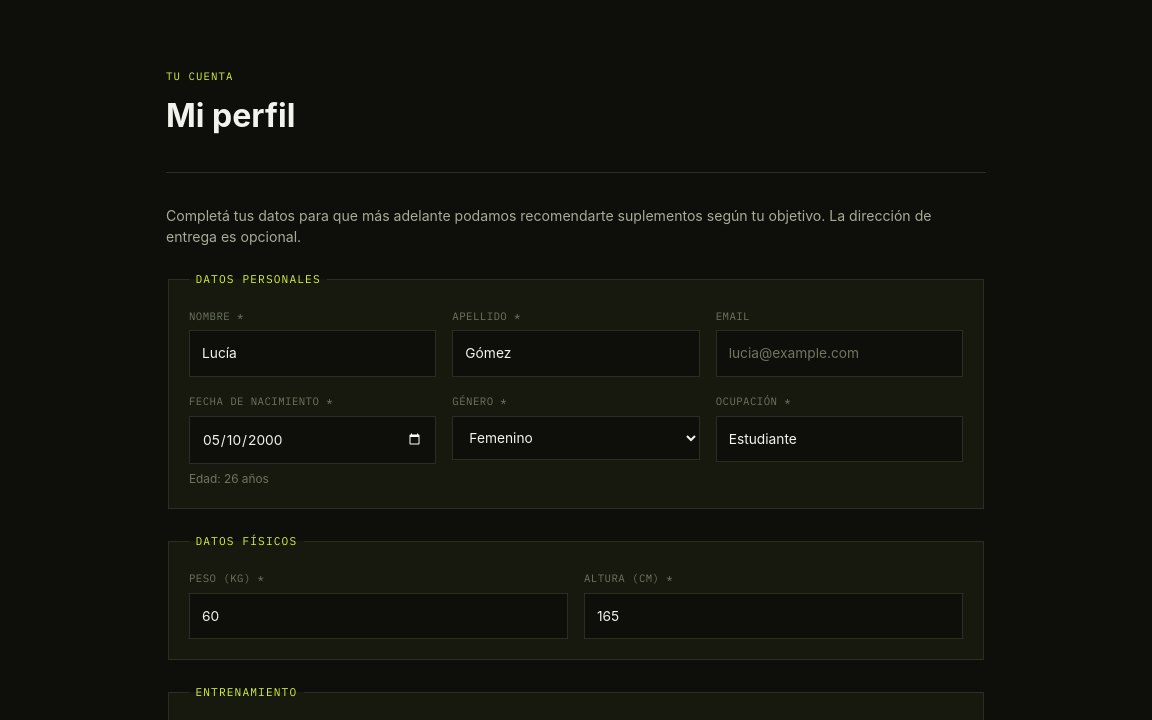
Test: ClientProfile › shows "El peso es obligatorio." and does not save when the weight is empty
This screenshot has width=1152, height=720.
Clear the number field labelled "Peso (kg) *": (378, 616) [189,593,568,639]
(page scrolled)
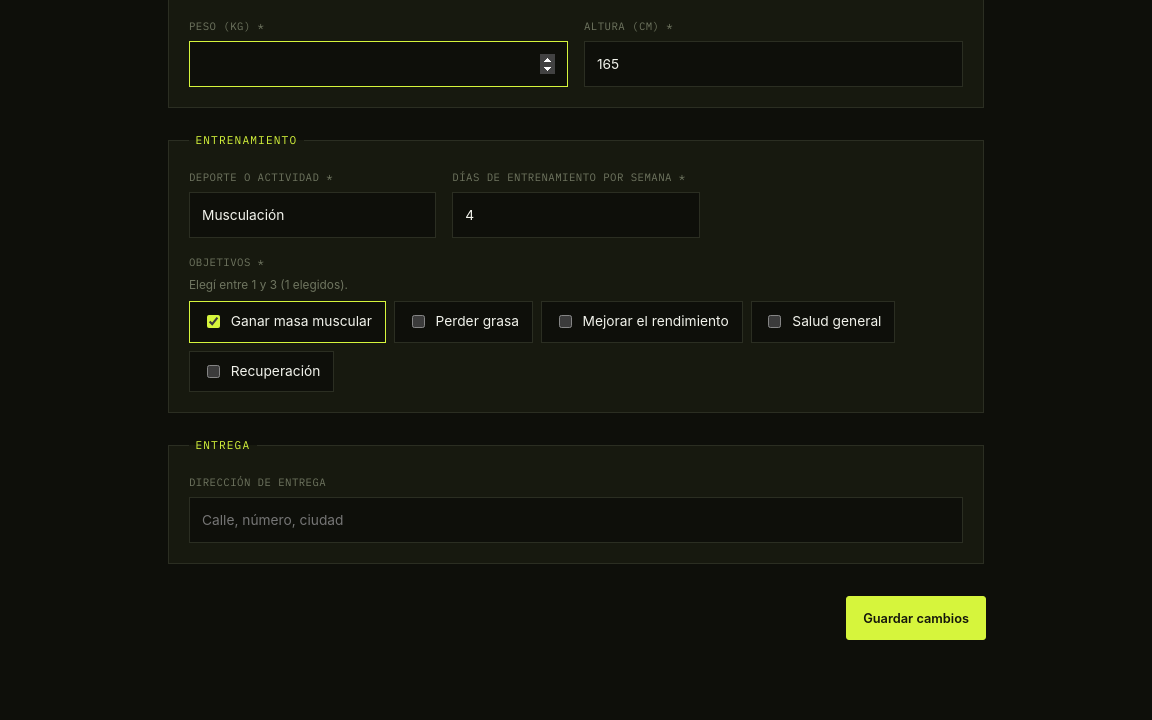
Click the button "Guardar cambios": (916, 618) [846,596,986,640]
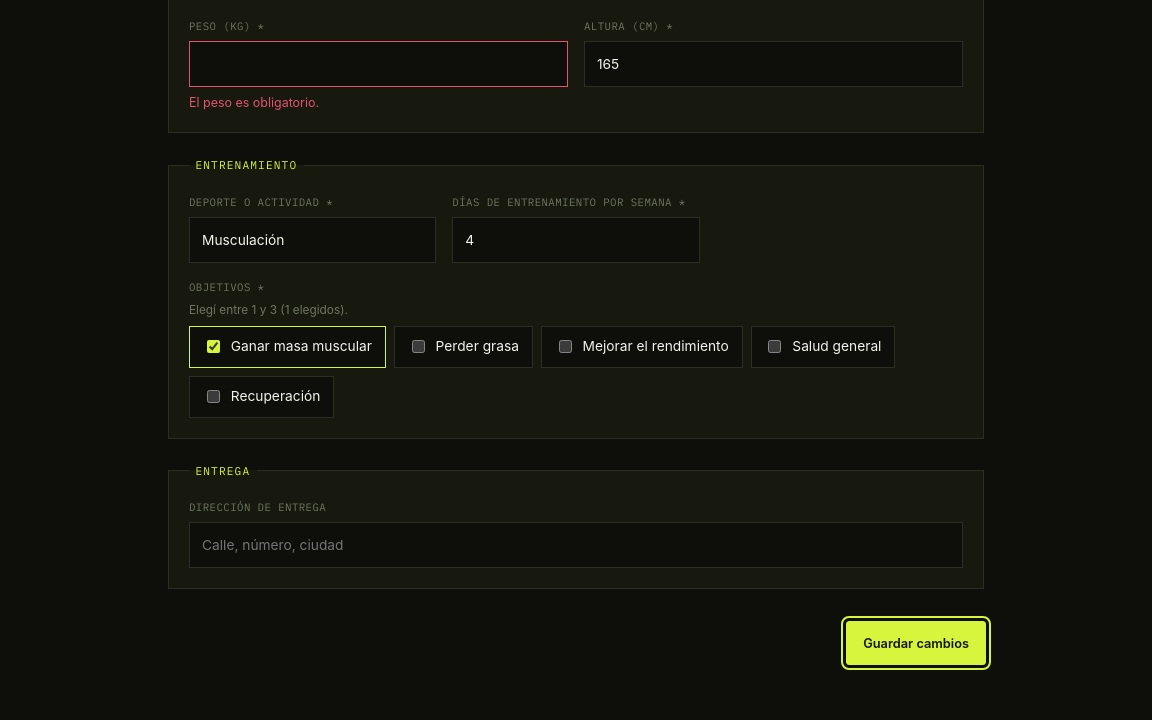
Now the text "El peso es obligatorio." is shown, box [189,95,319,110]
